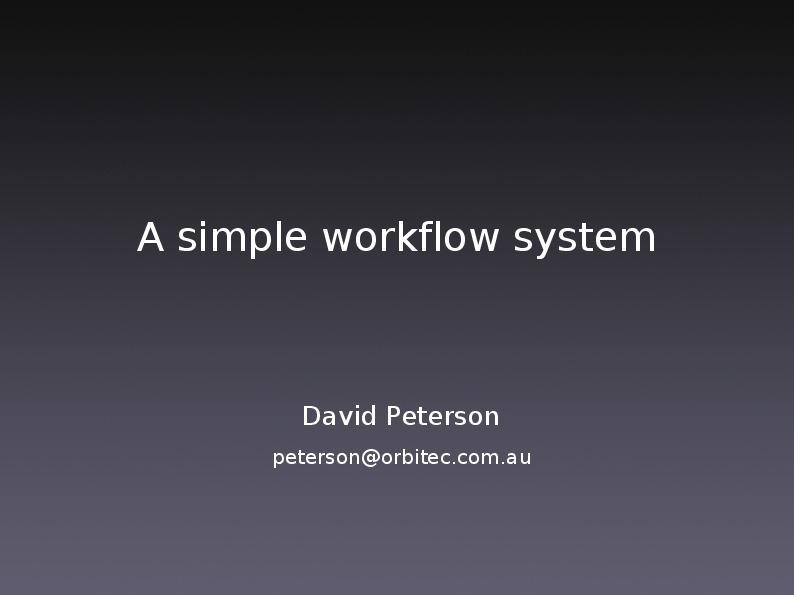title: (123, 210, 659, 265)
